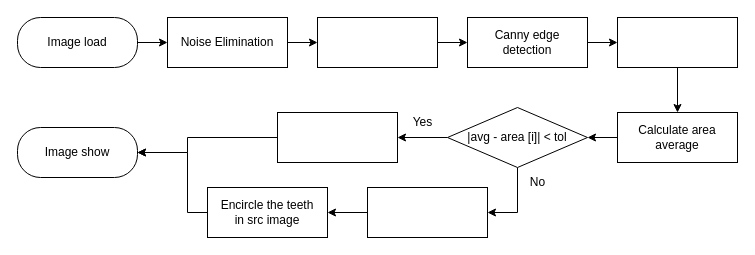
The diagram is 755 pixels wide and 255 high, and some of its shapes have lost their labels. Each missing label, with the centre of its shape:
Draw teeth and show area in green: the point at 337,137
Draw teeth and show area in red: the point at 427,212
Extract inner circle leaving teeth only: the point at 377,42
Find contours: the point at 677,42
